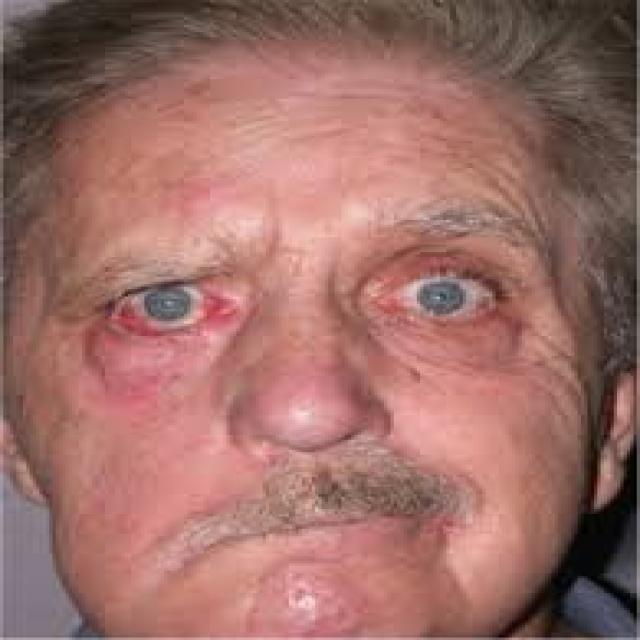stroke_face: (7, 17, 619, 631)
